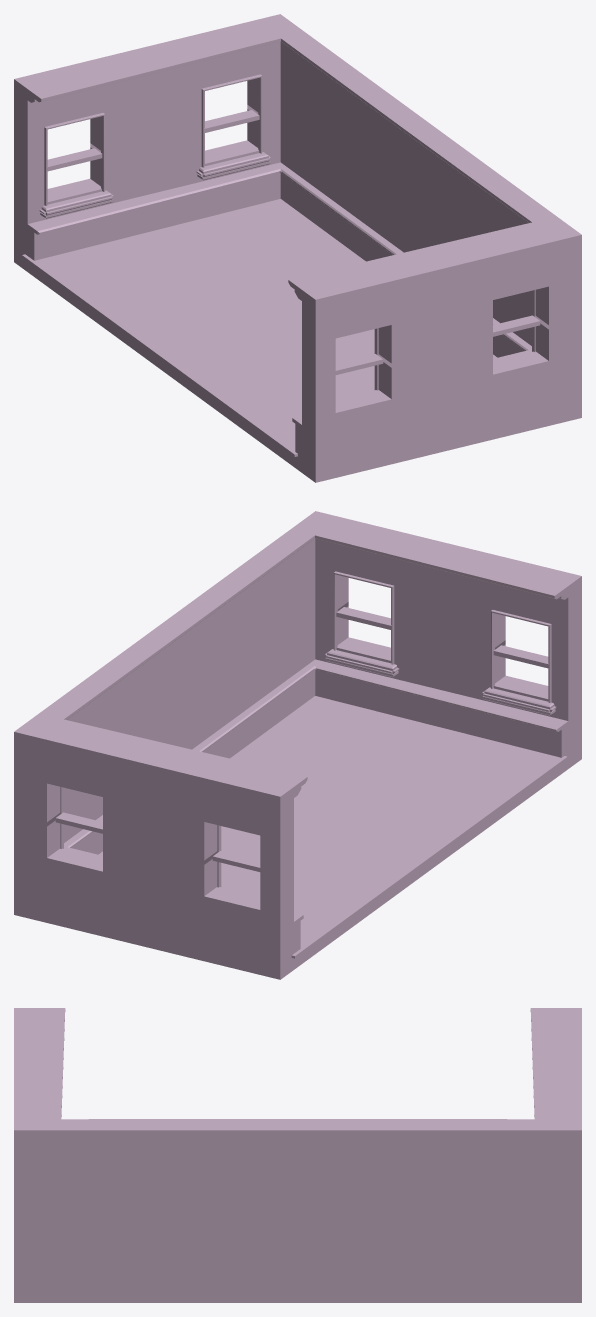
The model's file is Battleground.fbx.
The picture shows the model from 3 angles, top to bottom: view 1: azimuth 30°, elevation 25°; view 2: azimuth 150°, elevation 25°; view 3: azimuth 270°, elevation 25°; orthographic projection. The views are drawn at different scales.
Parts seen in each view (by area): view 1: Cube (×4), Cube.001, Box; view 2: Cube (×4), Cube.001, Box; view 3: Cube (×4).
Boxes of the visible parts, x1,y1,x2,y2 form: Cube (×4): [14, 14, 581, 482]; Cube.001: [22, 199, 497, 456]; Box: [39, 74, 540, 399]; Cube (×4): [14, 511, 581, 979]; Cube.001: [98, 696, 567, 958]; Box: [55, 571, 556, 896]; Cube (×4): [14, 1008, 581, 1302].
Bounding box in the file's own units: 549 × 356 × 1063.
